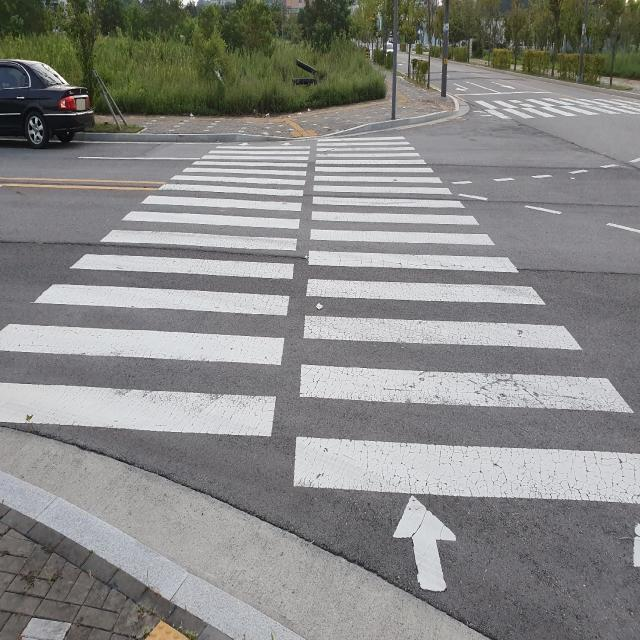횡단보도: (0, 135, 640, 598)
